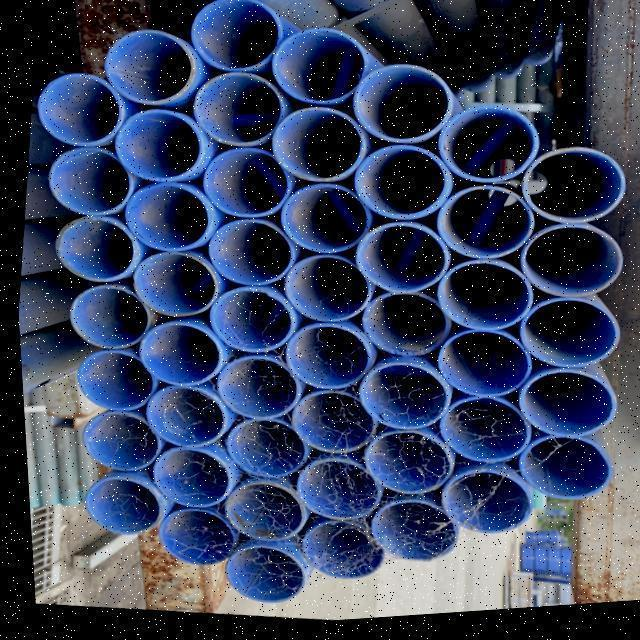pipe: (515, 223, 618, 307), (518, 151, 623, 232), (433, 106, 536, 188), (269, 26, 364, 112), (348, 71, 448, 152), (512, 304, 613, 378), (508, 434, 602, 513), (266, 112, 360, 190), (426, 269, 526, 341), (505, 379, 607, 448), (426, 335, 522, 408), (188, 3, 281, 78), (196, 153, 284, 232), (350, 152, 442, 227), (429, 194, 526, 265), (351, 361, 442, 436), (190, 82, 280, 156), (348, 228, 441, 299), (111, 115, 201, 188), (108, 40, 195, 113), (275, 390, 367, 459), (426, 474, 519, 542), (36, 75, 122, 148), (275, 190, 362, 262), (202, 286, 288, 358), (275, 259, 363, 329), (356, 297, 445, 365), (352, 435, 442, 502), (199, 222, 288, 289), (279, 323, 362, 394), (119, 187, 203, 257), (429, 405, 517, 471), (360, 502, 449, 567), (126, 330, 213, 396), (127, 254, 212, 321), (42, 148, 123, 218), (51, 218, 132, 286), (64, 284, 144, 352), (134, 390, 218, 454), (211, 356, 293, 420), (211, 483, 295, 545), (287, 463, 372, 524), (141, 450, 223, 513), (218, 422, 300, 484), (71, 413, 150, 477), (210, 548, 297, 606), (68, 351, 149, 413), (286, 525, 369, 584), (144, 511, 226, 569), (71, 477, 149, 537)
